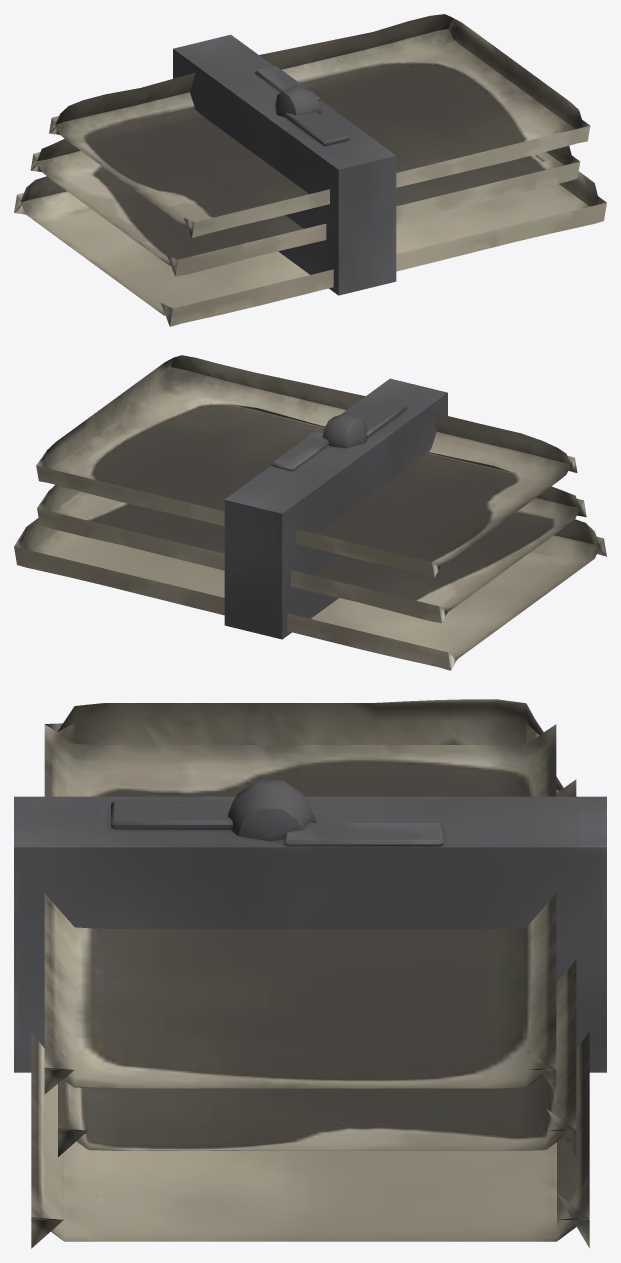
Rendered from curativo_improvisado.glb.
3 renders of one model, top to bottom at view 1: azimuth 30°, elevation 25°; view 2: azimuth 150°, elevation 25°; view 3: azimuth 270°, elevation 25°, orthographic. The views are drawn at different scales.
Parts seen in each view (by area): view 1: panos, tira; view 2: panos, tira; view 3: panos, tira.
Part boxes in pixels (x1,y1,x2,y2): panos: [14, 14, 606, 326]; tira: [173, 34, 396, 295]; panos: [14, 355, 606, 670]; tira: [224, 378, 447, 639]; panos: [31, 699, 589, 1248]; tira: [14, 780, 606, 1072].
Bounding box in the file's own units: 0.136 × 0.0441 × 0.0892.
1 material, 1 textured.
